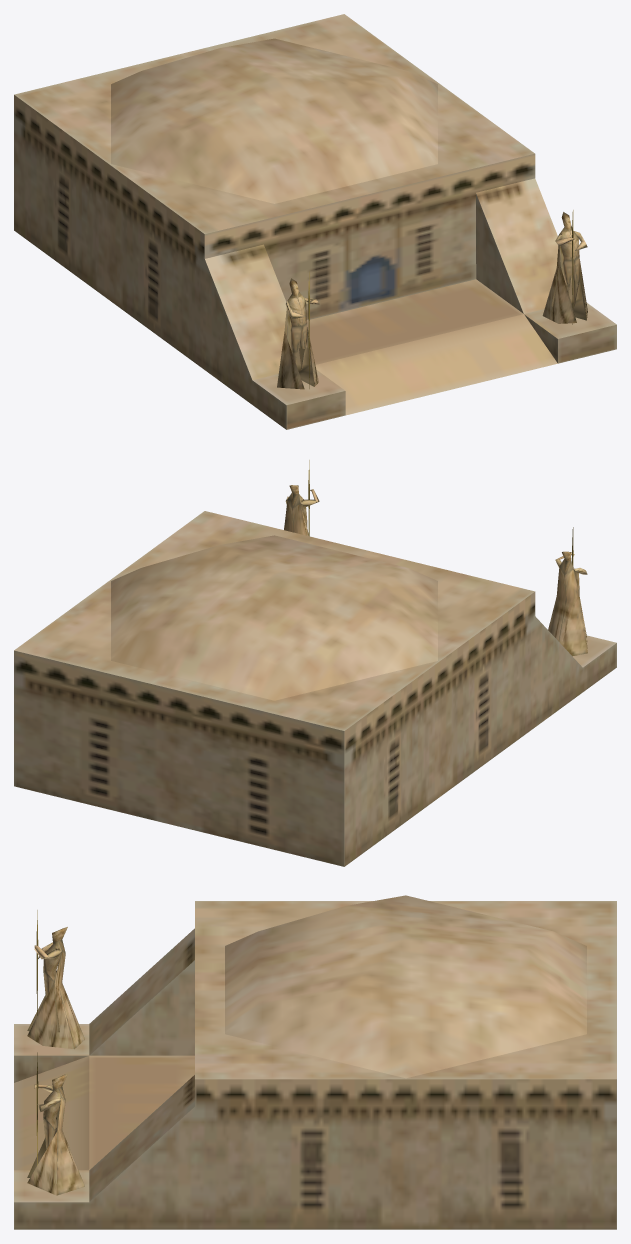
The model's file is mun_tato_guild_combat_s01_r0_exterior_mesh_l3.fbx.
The picture shows the model from 3 angles, top to bottom: view 1: azimuth 30°, elevation 25°; view 2: azimuth 150°, elevation 25°; view 3: azimuth 270°, elevation 25°; orthographic projection. The views are drawn at different scales.
Parts seen in each view (by area): view 1: mesh_node; view 2: mesh_node; view 3: mesh_node.
Boxes of the visible parts, x1=… form: mesh_node: x1=14, y1=14, x2=616, y2=429; mesh_node: x1=14, y1=460, x2=616, y2=866; mesh_node: x1=14, y1=895, x2=616, y2=1229.
Bounding box in the file's own units: 35 × 18.44 × 50.
